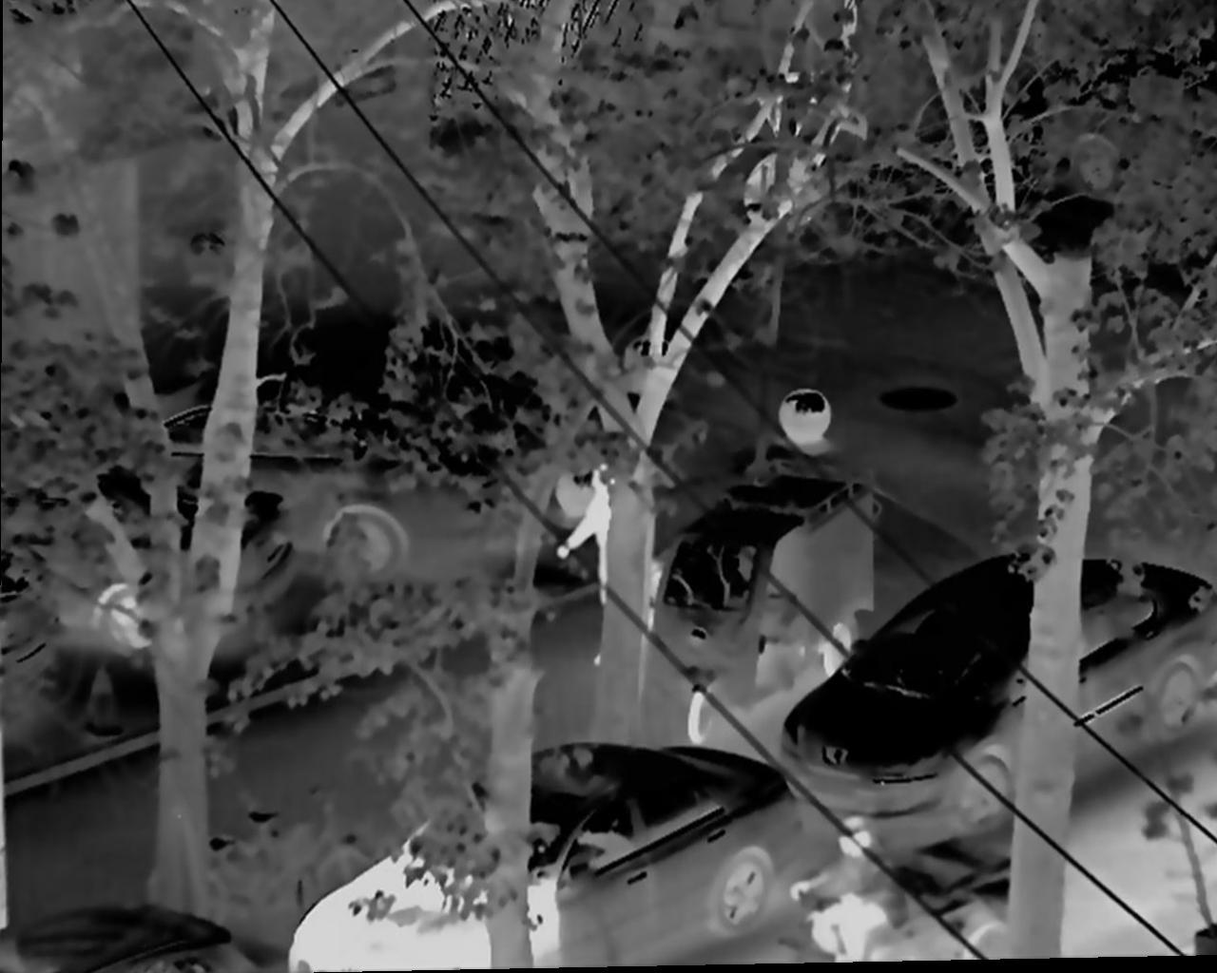person: (551, 454, 655, 665), (786, 810, 926, 963)
